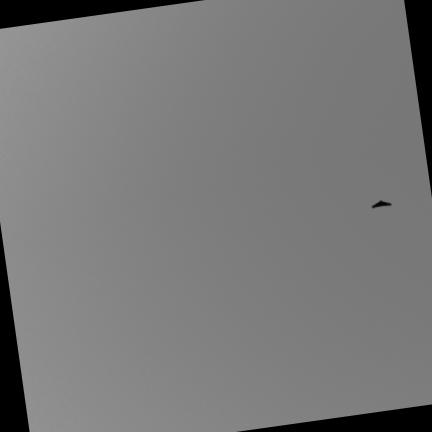Shahed: (371, 200, 390, 208)
